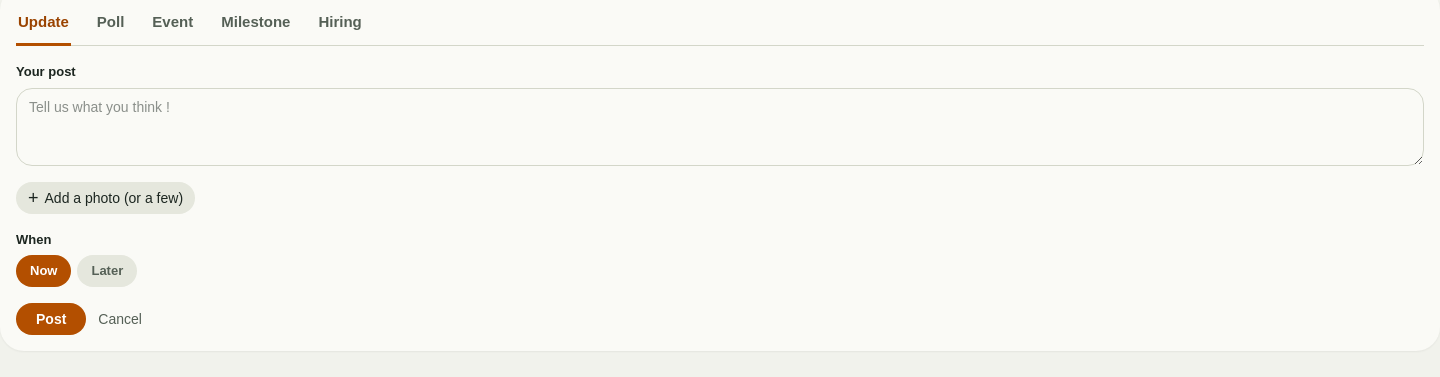
Test case: on the Free plan, Later explains which plans have it and cannot be sent
Click the radio button labelled "Later".
click(107, 271)  # box [78,255,137,286]
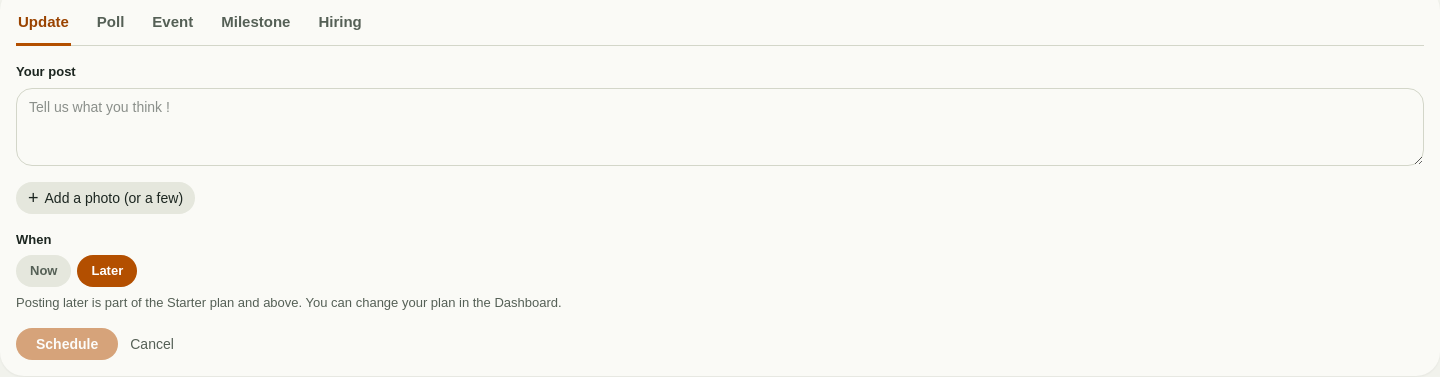
Expected: the text "part of the Starter plan and above" is shown, [16,294,562,310]
Expected: the button "Schedule" is disabled, [16,328,118,360]
